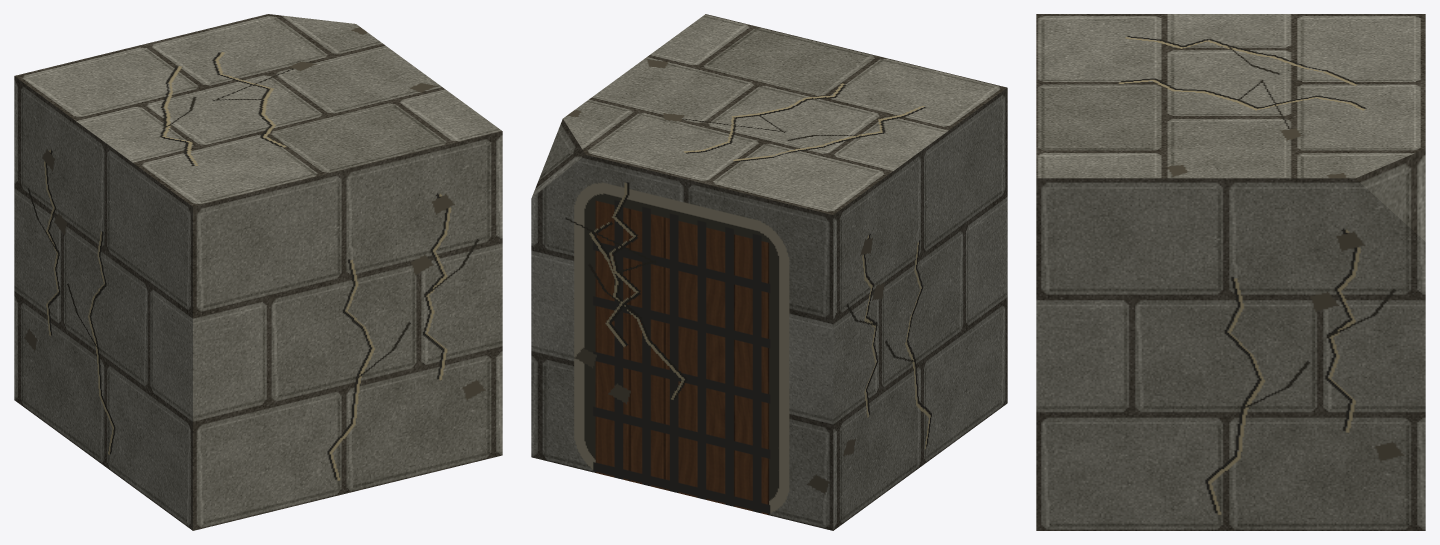
File: gate_z1.glb
3 renders of one model, left to right at view 1: azimuth 30°, elevation 25°; view 2: azimuth 150°, elevation 25°; view 3: azimuth 270°, elevation 25°, orthographic. The views are drawn at different scales.
Visible parts, largest first — view 1: gate_z1; view 2: gate_z1; view 3: gate_z1.
Part boxes in pixels (x1,y1,x2,y2): gate_z1: [14, 14, 502, 530]; gate_z1: [531, 14, 1007, 530]; gate_z1: [1036, 14, 1425, 530].
Bounding box in the file's own units: 1 × 1 × 1.
1 material, 1 textured.
